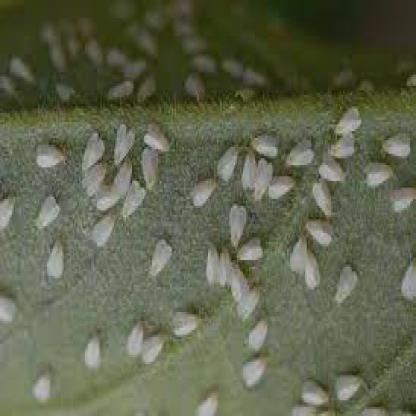whitefly: (115, 124, 136, 168), (228, 202, 248, 248), (37, 194, 62, 230), (215, 144, 239, 181), (34, 144, 66, 169), (150, 241, 171, 279), (121, 182, 145, 215)
